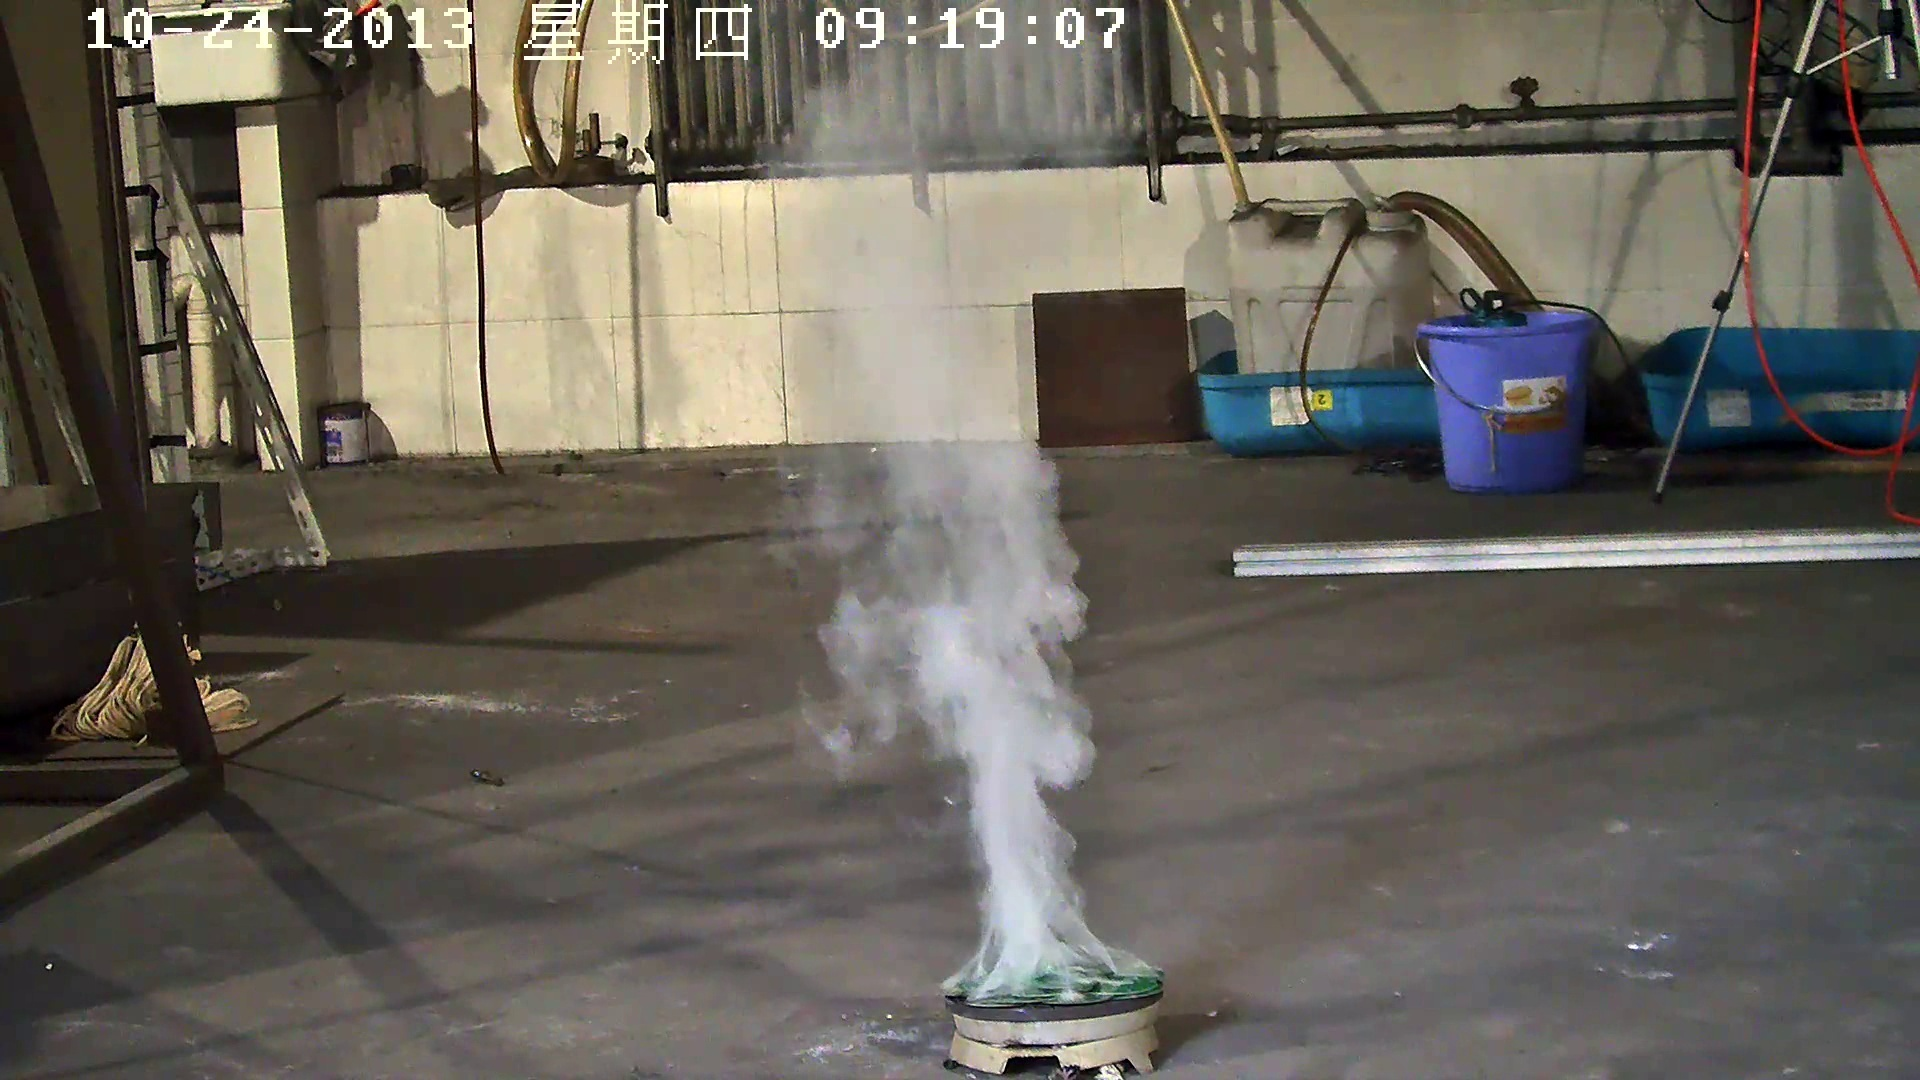smoke: (736, 76, 1146, 997)
